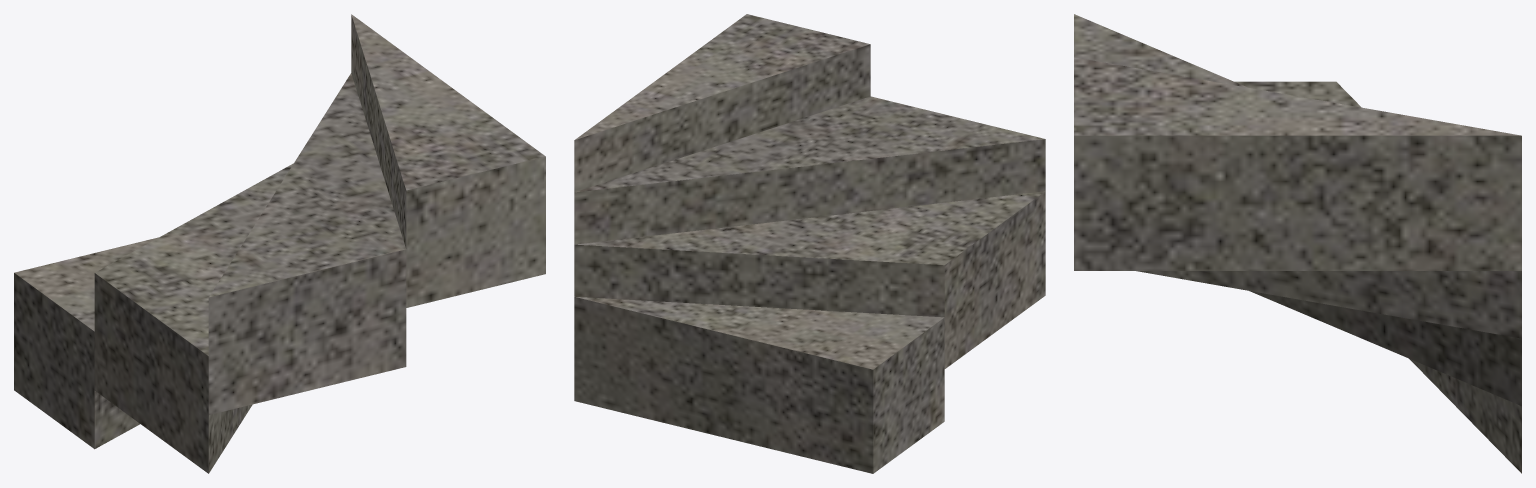
File: J_SpiralStairsR1mB.obj
The picture shows the model from 3 angles, left to right: view 1: azimuth 30°, elevation 25°; view 2: azimuth 150°, elevation 25°; view 3: azimuth 270°, elevation 25°; orthographic projection. The views are drawn at different scales.
Size of the model in its own units: 1 by 0.8333 by 1.
Materials: 1 (1 with a texture image).
